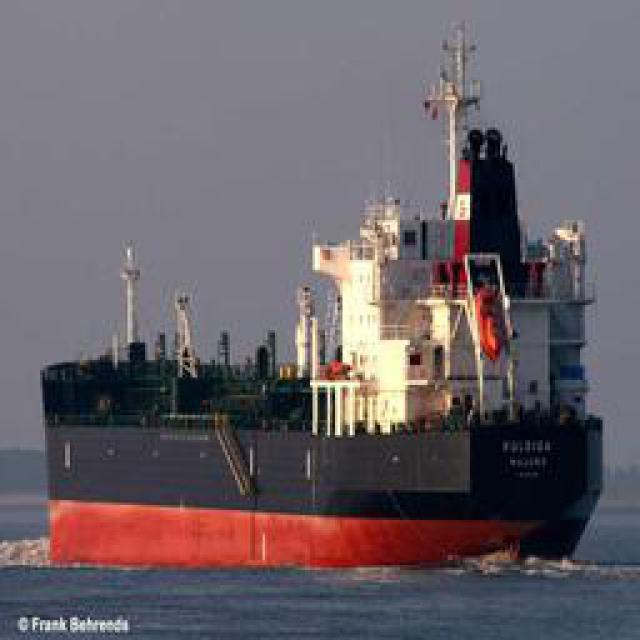Ship: (25, 15, 625, 579)
